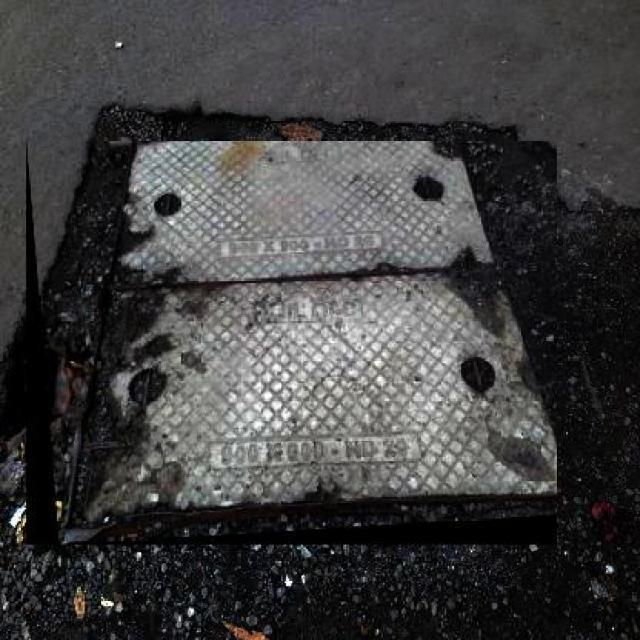Manhole: (26, 140, 557, 545)
